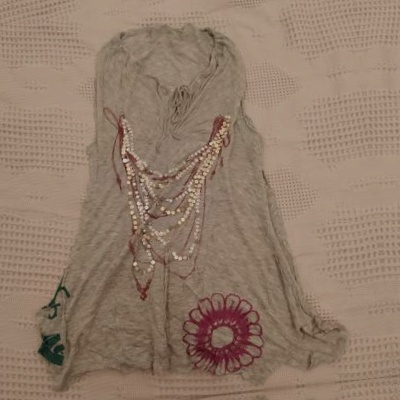Dress: (0, 12, 331, 396), (0, 0, 289, 7)
